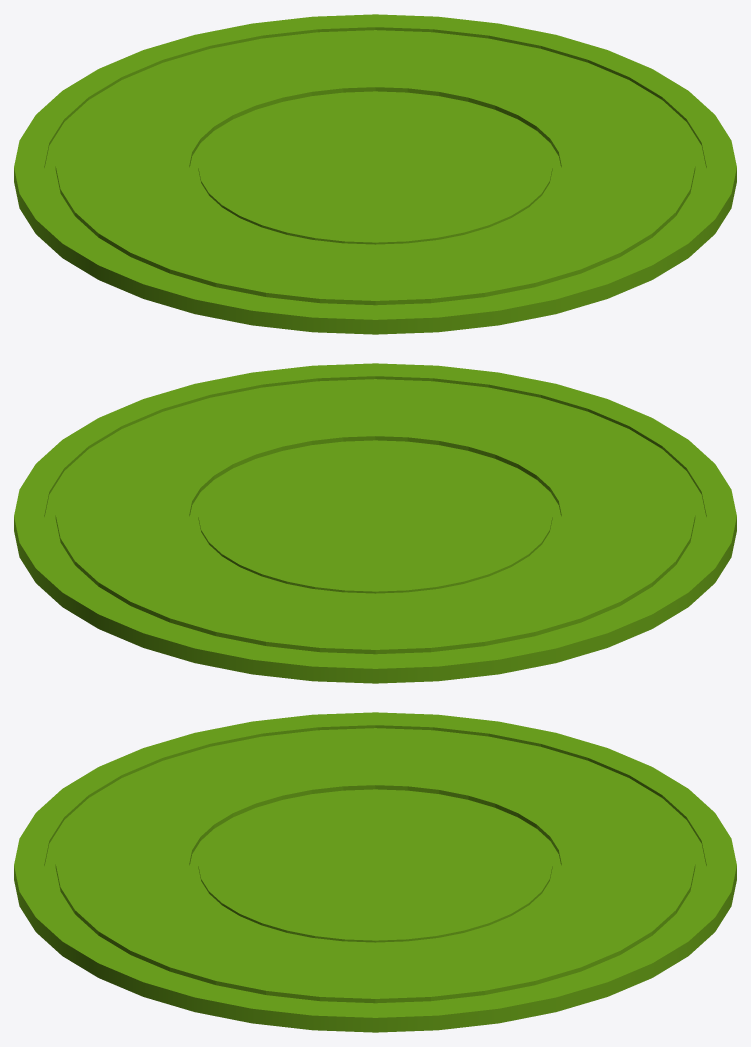
Rendered from ball.FBX.
The picture shows the model from 3 angles, top to bottom: view 1: azimuth 30°, elevation 25°; view 2: azimuth 150°, elevation 25°; view 3: azimuth 270°, elevation 25°; orthographic projection.
Parts seen in each view (by area): view 1: ARCHMODELS_47_001_12; view 2: ARCHMODELS_47_001_12; view 3: ARCHMODELS_47_001_12.
Boxes of the visible parts, x1,y1,x2,y2 form: ARCHMODELS_47_001_12: (14,14,736,334); ARCHMODELS_47_001_12: (14,363,736,683); ARCHMODELS_47_001_12: (14,712,736,1032).
Size of the model in its own units: 78.79 by 2.08 by 78.79.
